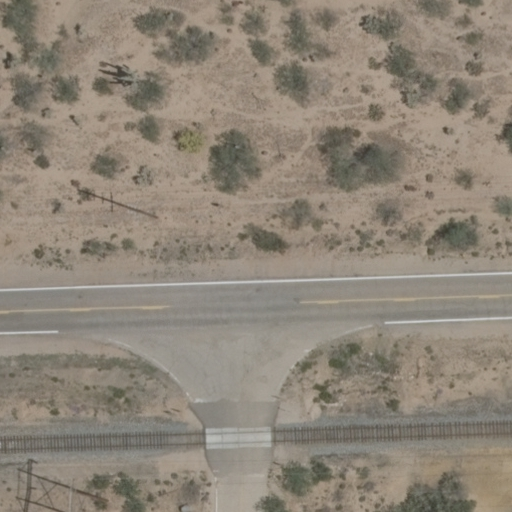DT: (78, 187, 159, 218)
TT: (11, 461, 103, 501)
